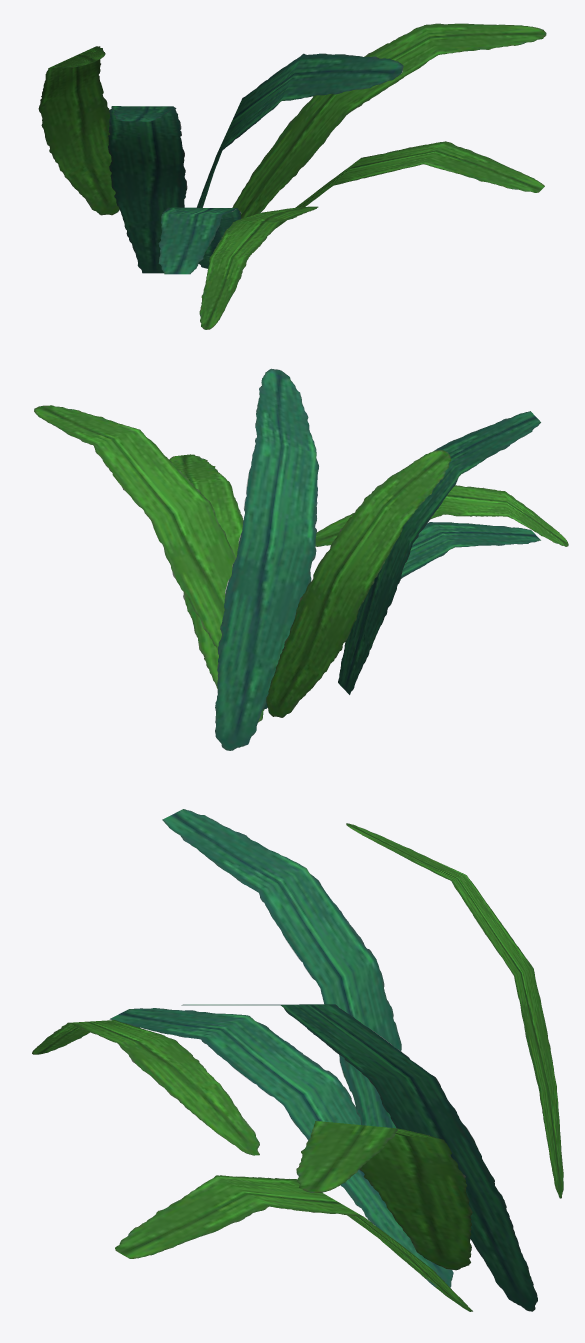
Rendered from leaf.fbx.
3 renders of one model, top to bottom at view 1: azimuth 30°, elevation 25°; view 2: azimuth 150°, elevation 25°; view 3: azimuth 270°, elevation 25°, orthographic. The views are drawn at different scales.
Parts seen in each view (by area): view 1: leaf7; view 2: leaf7; view 3: leaf7.
Boxes of the visible parts, x1,y1,x2,y2 form: leaf7: (38, 23, 546, 329); leaf7: (34, 368, 568, 750); leaf7: (32, 809, 563, 1311).
Size of the model in its own units: 525 by 322 by 383.
